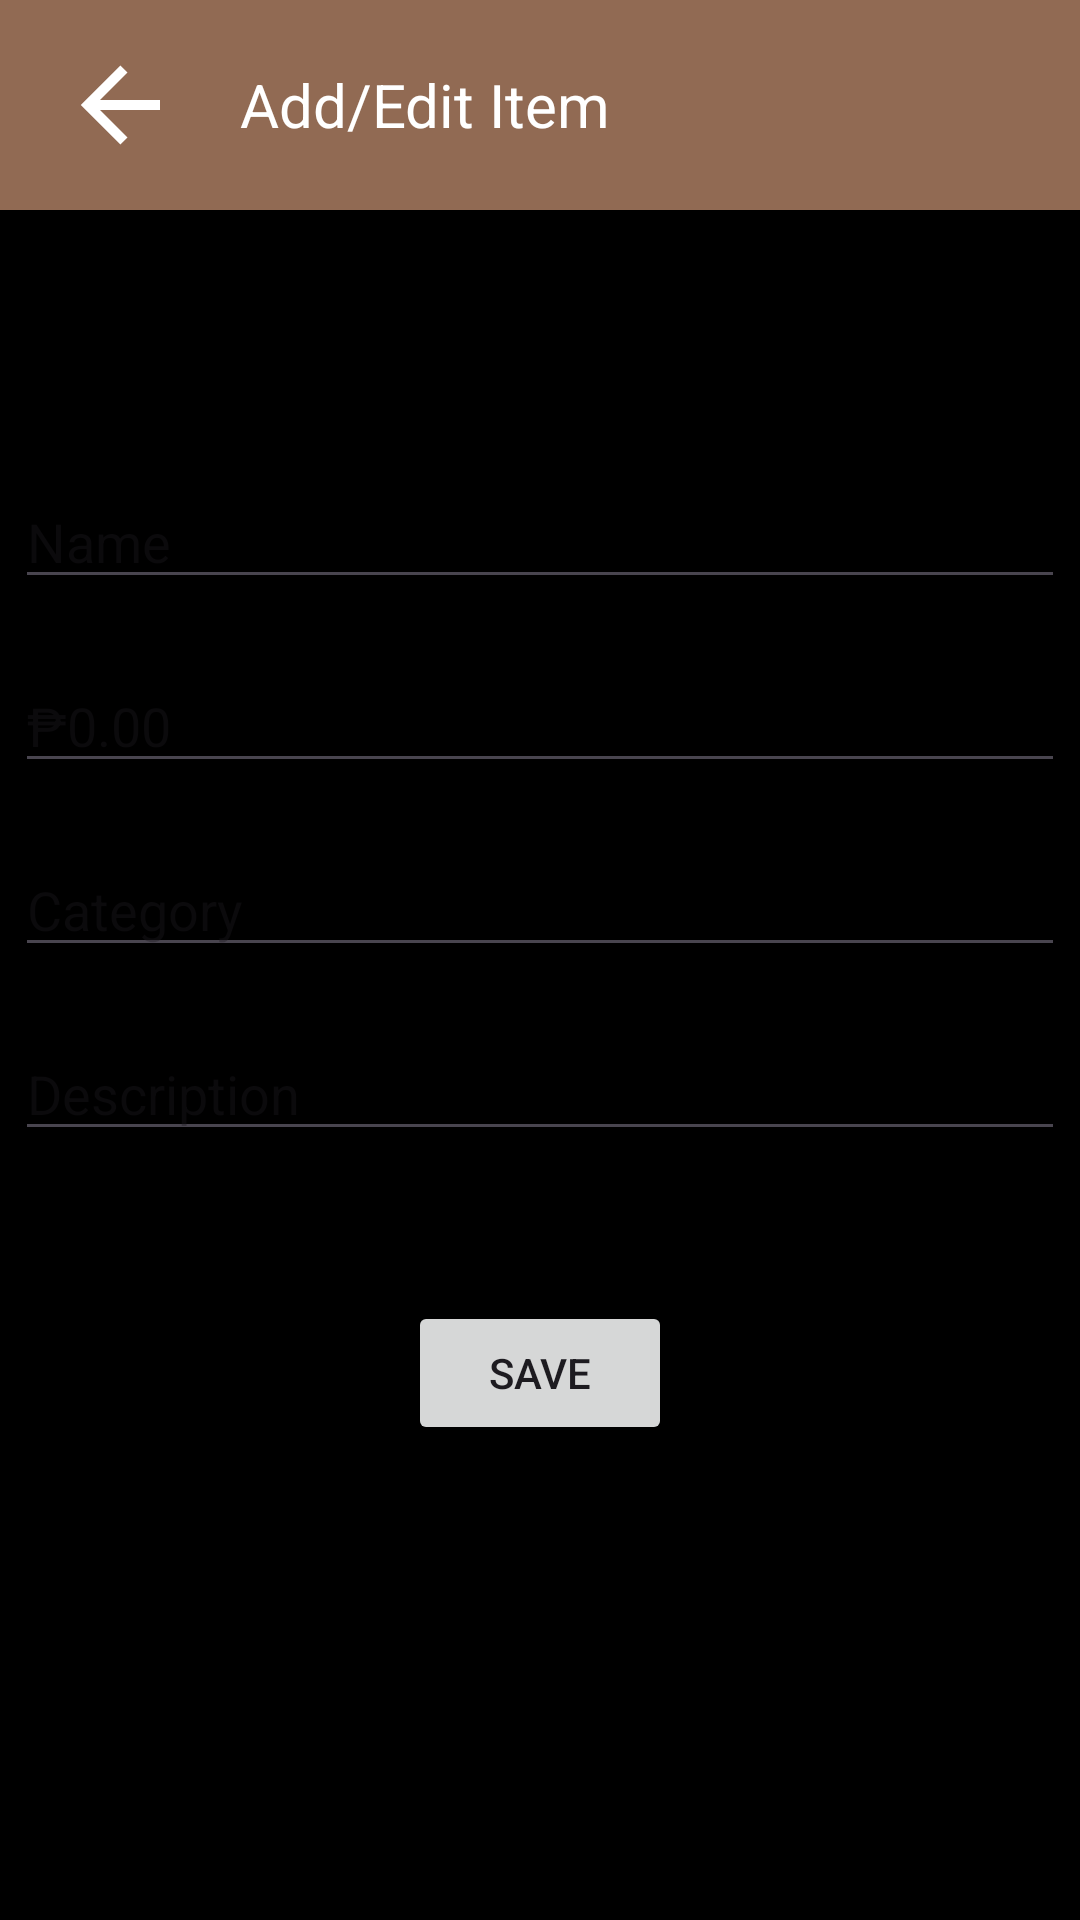

Where icons sit on this 1080x1920 app screen, as rect(x1, y1, x2, y2):
arrow left: rect(81, 65, 160, 145)
